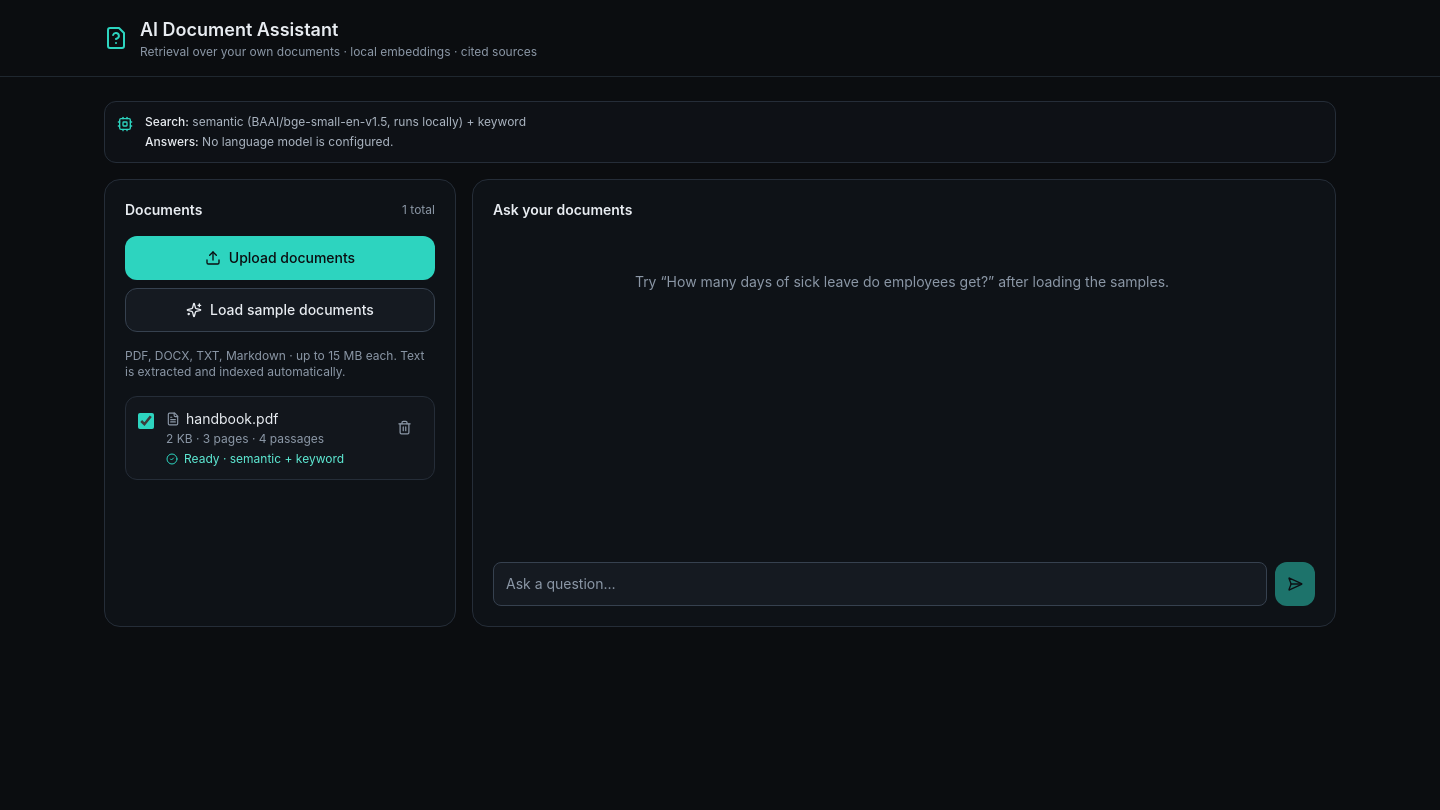
Test case: shows the not-found message
Expected: the text "handbook.pdf" is shown, [186,409,278,429]
Type "Mars weather?" into the field labelled "question" at (880, 584), box [493,562,1267,606]
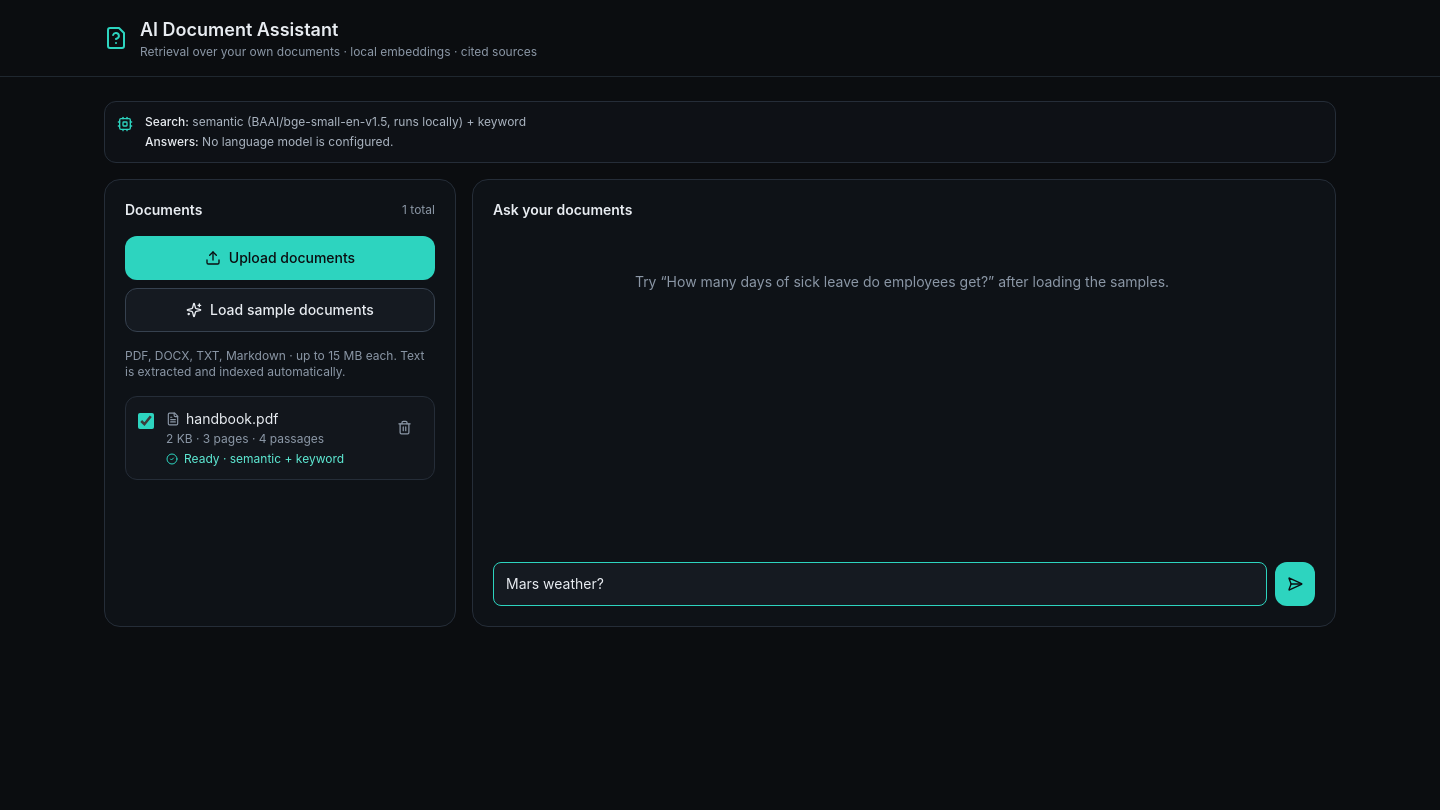
Click the button named "Ask" at (1295, 584), box [1275,562,1315,606]
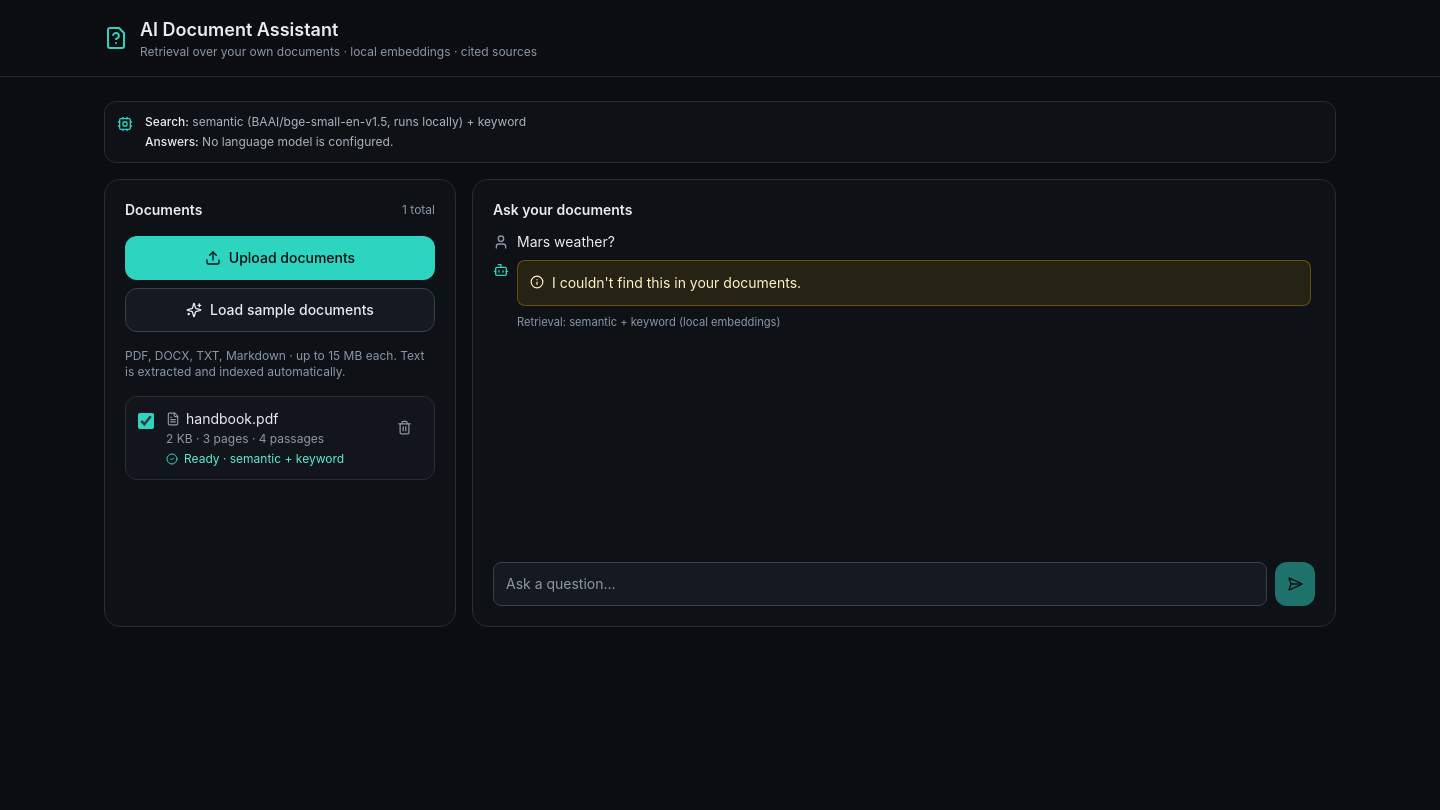
Expected: the text "I couldn't find this in your documents." is shown, [517,260,1311,306]
